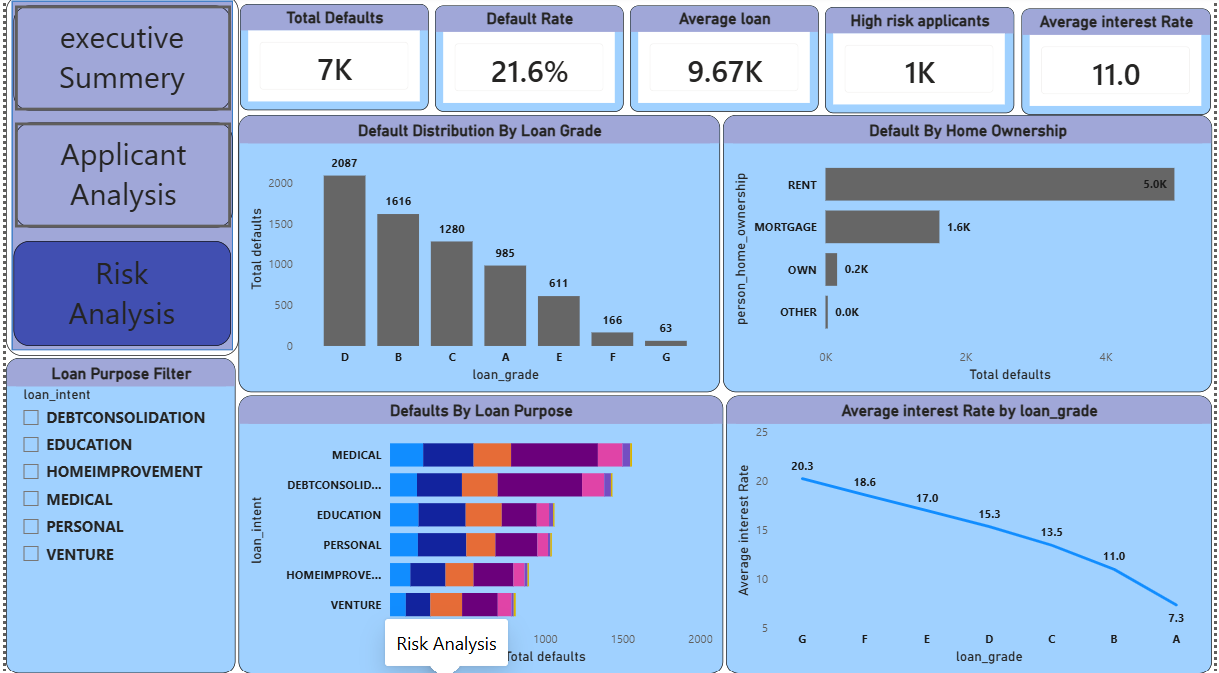

The dashboard page shown, as its layout file describes it:
{"tool":"powerbi","page":{"name":"Risk Analysis","canvas":[1280,720],"ordinal":2},"visuals":[{"type":"shape","box":[0,0,247,382.9],"z":0},{"type":"textbox","box":[8,11,230.6,111.3],"z":1000},{"type":"textbox","box":[9.5,135.2,230.6,111.3],"z":2000},{"type":"textbox","box":[8,260.9,230.6,111.3],"z":3000},{"type":"actionButton","box":[9,11,229,111.3],"z":4000},{"type":"actionButton","box":[9,135.2,229,111.3],"z":5000},{"type":"cardVisual","title":"Total Defaults","fields":{"Data":["credit_risk_dataset.Total defaults"]},"box":[248,9.5,200,112.9],"z":5001},{"type":"cardVisual","title":"Default Rate","fields":{"Data":["credit_risk_dataset.Default rate"]},"box":[455,11,200,112.9],"z":5002},{"type":"cardVisual","title":"Average interest Rate","fields":{"Data":["credit_risk_dataset.Average interest Rate"]},"box":[1077,14.3,200.4,112.9],"z":5003},{"type":"cardVisual","title":"Average loan","fields":{"Data":["credit_risk_dataset.average loan amount"]},"box":[662,11.1,200,112.9],"z":5004},{"type":"cardVisual","title":"High risk applicants","fields":{"Data":["credit_risk_dataset.High risk applicants"]},"box":[869,12.7,200.4,112.9],"z":5005},{"type":"clusteredColumnChart","title":"Default Distribution By Loan Grade","fields":{"Category":["credit_risk_dataset.loan_grade"],"Y":["credit_risk_dataset.Total defaults"]},"box":[246.5,127.2,510.6,294.3],"z":5006},{"type":"barChart","title":"Default By Home Ownership","fields":{"Category":["credit_risk_dataset.person_home_ownership"],"Y":["credit_risk_dataset.Total defaults"]},"box":[760,127.2,518.5,294.3],"z":5007},{"type":"lineChart","fields":{"Category":["credit_risk_dataset.loan_grade"],"Y":["credit_risk_dataset.Average interest Rate"]},"box":[763.5,424.7,515.4,295.9],"z":5008},{"type":"barChart","title":"Defaults By Loan Purpose","fields":{"Category":["credit_risk_dataset.loan_intent"],"Series":["credit_risk_dataset.loan_grade"],"Y":["credit_risk_dataset.Total defaults"]},"box":[247,424,513.8,295.9],"z":5009},{"type":"slicer","title":"Loan Purpose Filter","fields":{"Values":["credit_risk_dataset.loan_intent"]},"box":[0,384.9,243.4,335.6],"z":5010}]}

Visuals, with their boxes in screenshot pixels (x1, y1, x2, y2), scaled from the page's 1280x720 canvas onto the 1219x673 screenshot:
shape: select_region(0, 0, 235, 358)
textbox: select_region(8, 10, 227, 114)
textbox: select_region(9, 126, 229, 230)
textbox: select_region(8, 244, 227, 348)
actionButton: select_region(9, 10, 227, 114)
actionButton: select_region(9, 126, 227, 230)
"Total Defaults" cardVisual: select_region(236, 9, 427, 114)
"Default Rate" cardVisual: select_region(433, 10, 624, 116)
"Average interest Rate" cardVisual: select_region(1026, 13, 1217, 119)
"Average loan" cardVisual: select_region(630, 10, 821, 116)
"High risk applicants" cardVisual: select_region(828, 12, 1018, 117)
"Default Distribution By Loan Grade" clusteredColumnChart: select_region(235, 119, 721, 394)
"Default By Home Ownership" barChart: select_region(724, 119, 1218, 394)
lineChart - credit_risk_dataset.loan_grade x credit_risk_dataset.Average interest Rate: select_region(727, 397, 1218, 672)
"Defaults By Loan Purpose" barChart: select_region(235, 396, 725, 672)
"Loan Purpose Filter" slicer: select_region(0, 360, 232, 672)
